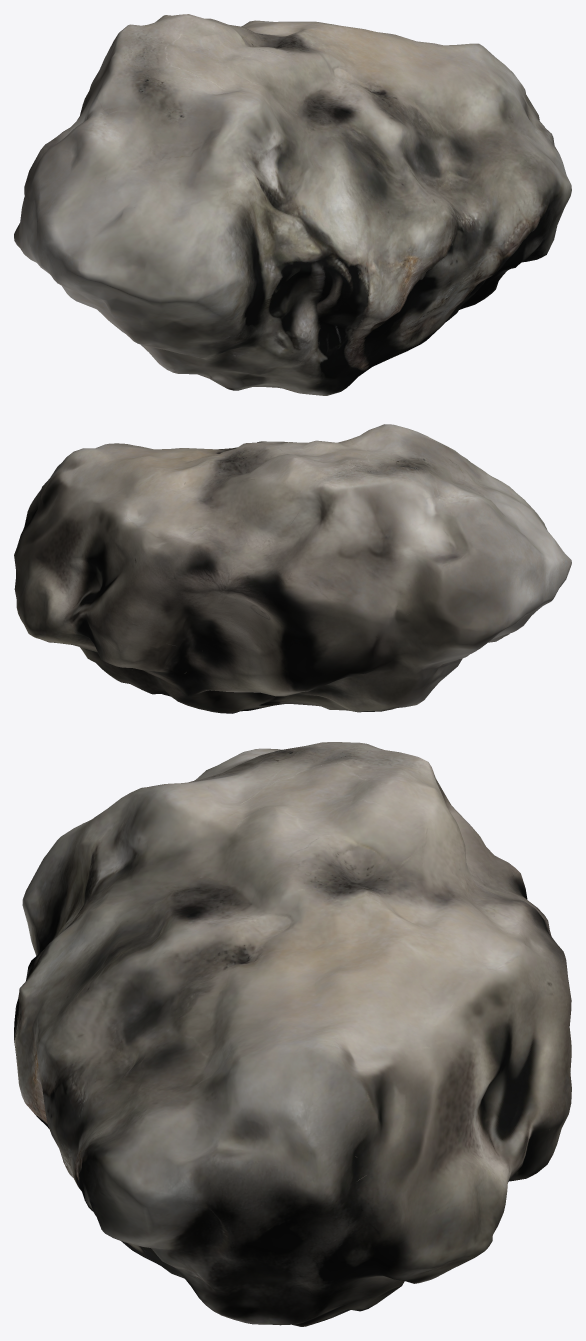
The model's file is Astreoid7-BsPEQwth.glb.
3 renders of one model, top to bottom at view 1: azimuth 30°, elevation 25°; view 2: azimuth 150°, elevation 25°; view 3: azimuth 270°, elevation 25°, orthographic. The views are drawn at different scales.
Bounding box in the file's own units: 2 × 1.19 × 1.38.
Materials: 1 (1 with a texture image).
